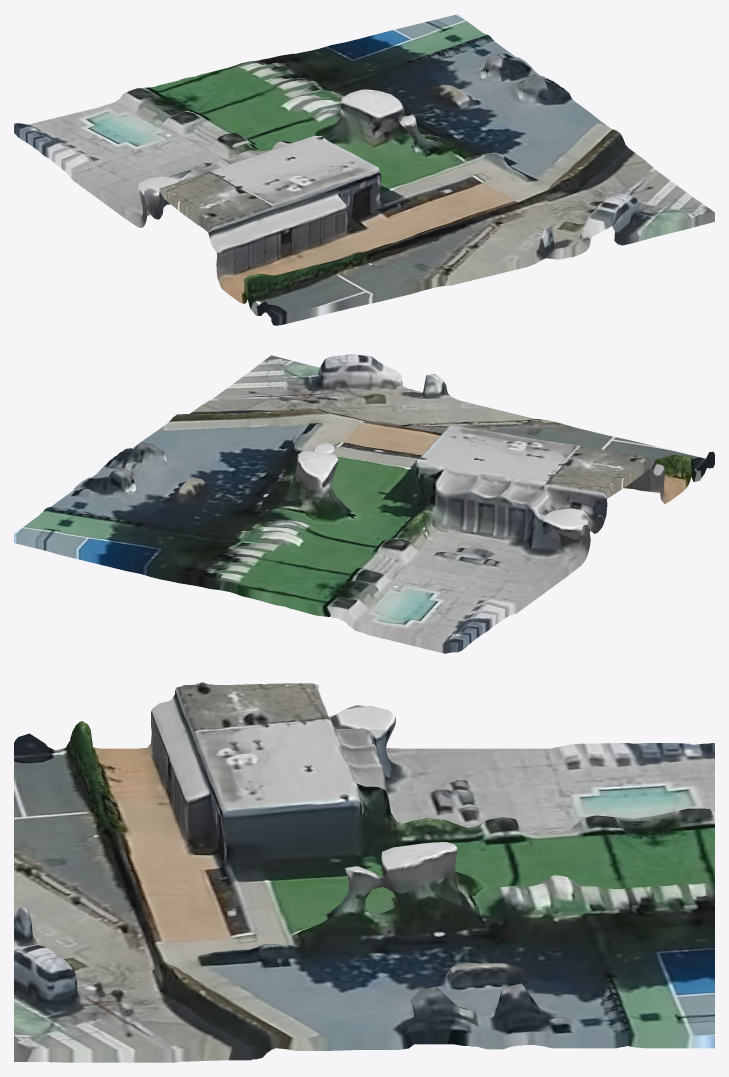
Rendered from z20-167781-405212-h0-yup-uvflip-v3-world.glb.
3 renders of one model, top to bottom at view 1: azimuth 30°, elevation 25°; view 2: azimuth 150°, elevation 25°; view 3: azimuth 270°, elevation 25°, orthographic. The views are drawn at different scales.
Size of the model in its own units: 30.16 by 4.36 by 30.32.
Materials: 1 (1 with a texture image).
